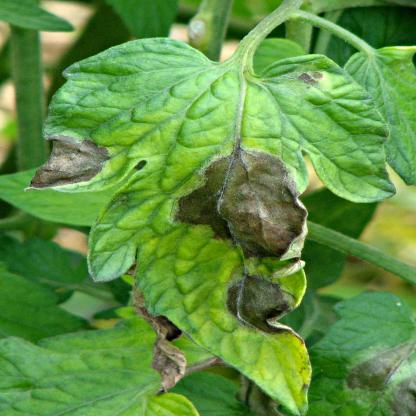tomato leaf late blight: (30, 27, 384, 409)
